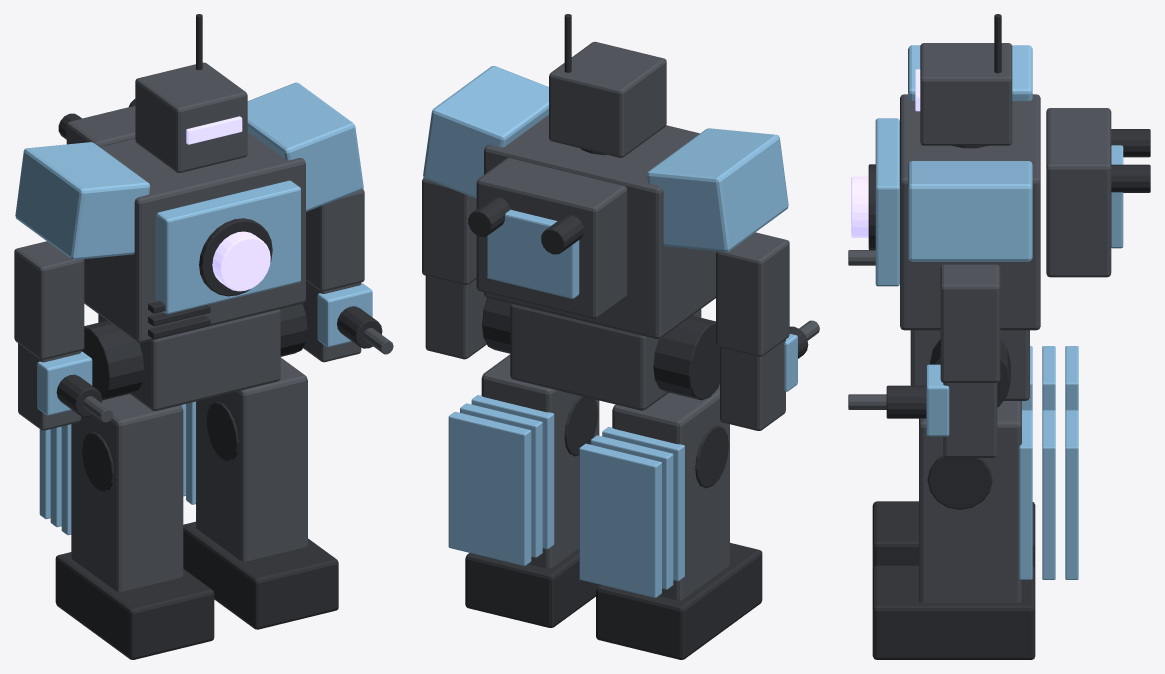
File: robot_medium.glb
3 renders of one model, left to right at view 1: azimuth 30°, elevation 25°; view 2: azimuth 150°, elevation 25°; view 3: azimuth 270°, elevation 25°, orthographic. The views are drawn at different scales.
Visible parts, largest first — view 1: part_thruster_L, part_thruster_R, chassis_torso, part_shoulder_L, chassis_chestplate, part_foot_L, chassis_pelvis, part_foot_R, chassis_head, part_shoulder_R, part_upperarm_L, part_upperarm_R (+20 smaller); view 2: chassis_torso, part_shoulder_L, part_backpack, part_fin_R_03, part_fin_L_03, chassis_pelvis, chassis_head, part_foot_L, part_thruster_L, part_shoulder_R, part_upperarm_L, part_foot_R (+16 smaller); view 3: part_thruster_R, part_shoulder_R, chassis_torso, part_foot_R, part_backpack, chassis_head, part_upperarm_R, chassis_chestplate, part_forearm_R, part_foot_L, chassis_pelvis, part_knee_R (+17 smaller).
Boxes of the visible parts, x1=… form: part_thruster_L: x1=71, y1=394, x2=183, y2=591; part_thruster_R: x1=196, y1=357, x2=307, y2=561; chassis_torso: x1=84, y1=132, x2=305, y2=342; part_shoulder_L: x1=15, y1=142, x2=150, y2=259; chassis_chestplate: x1=156, y1=180, x2=300, y2=314; part_foot_L: x1=55, y1=552, x2=214, y2=659; chassis_pelvis: x1=98, y1=309, x2=280, y2=410; part_foot_R: x1=183, y1=521, x2=338, y2=629; chassis_head: x1=135, y1=62, x2=247, y2=172; part_shoulder_R: x1=247, y1=82, x2=363, y2=211; part_upperarm_L: x1=14, y1=241, x2=84, y2=359; part_upperarm_R: x1=306, y1=189, x2=364, y2=291; chassis_torso: x1=484, y1=115, x2=716, y2=338; part_shoulder_L: x1=647, y1=128, x2=788, y2=251; part_backpack: x1=476, y1=158, x2=627, y2=318; part_fin_R_03: x1=448, y1=412, x2=531, y2=566; part_fin_L_03: x1=579, y1=443, x2=661, y2=597; chassis_pelvis: x1=510, y1=303, x2=701, y2=410; chassis_head: x1=549, y1=41, x2=666, y2=157; part_foot_L: x1=596, y1=543, x2=762, y2=659; part_thruster_L: x1=612, y1=385, x2=729, y2=600; part_shoulder_R: x1=423, y1=66, x2=548, y2=198; part_upperarm_L: x1=716, y1=232, x2=789, y2=356; part_foot_R: x1=465, y1=548, x2=599, y2=627; part_thruster_R: x1=919, y1=401, x2=1021, y2=602; part_shoulder_R: x1=908, y1=161, x2=1032, y2=261; chassis_torso: x1=900, y1=94, x2=1040, y2=330; part_foot_R: x1=872, y1=565, x2=1035, y2=659; part_backpack: x1=1046, y1=108, x2=1111, y2=277; chassis_head: x1=920, y1=43, x2=1012, y2=145; part_upperarm_R: x1=940, y1=264, x2=1000, y2=382; chassis_chestplate: x1=875, y1=118, x2=899, y2=286; part_forearm_R: x1=943, y1=383, x2=997, y2=457; part_foot_L: x1=872, y1=501, x2=1035, y2=568; chassis_pelvis: x1=910, y1=330, x2=1029, y2=400; part_knee_R: x1=927, y1=455, x2=992, y2=509.
Bounding box in the file's own units: 1.47 × 2.46 × 1.11.
